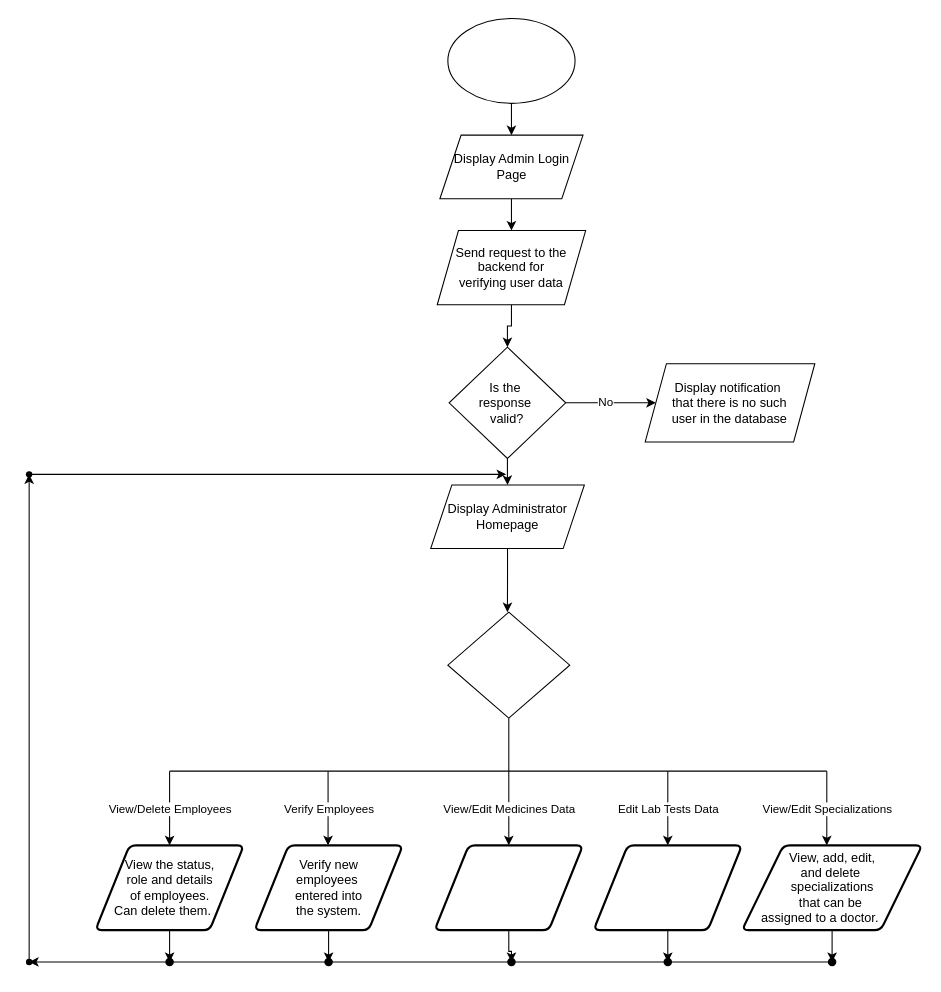
This 941x992 diagram has some shape labels left out. Here are the shapes that lost their labels. From the top down, the centre of each, then its label:
(x=511, y=60): START
(x=508, y=664): Option Selection
(x=508, y=887): View, add, and delete medicines data
(x=667, y=887): View, add, edit, and delete lab tests data.
